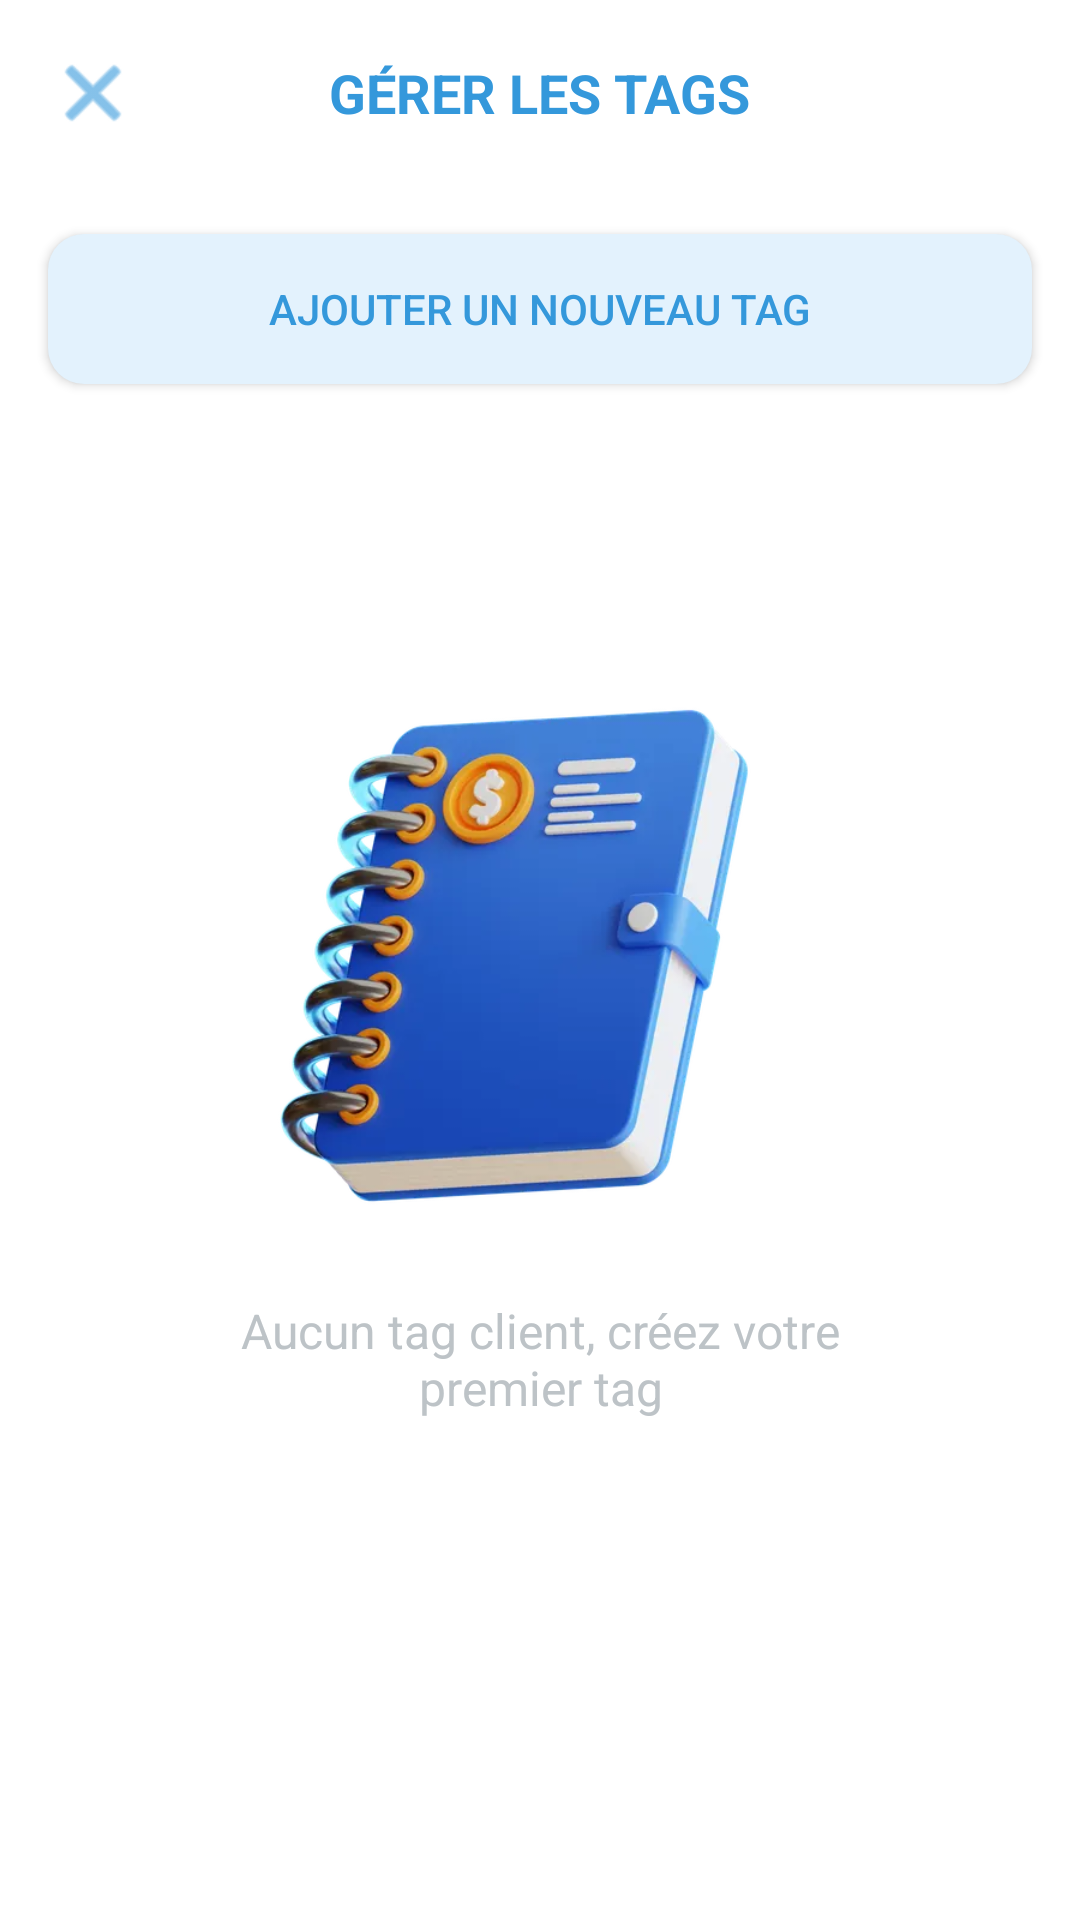

Point at icon controls on the screen. Image size 1080px x 1920px, points as (x,y).
close clear cancel: (93,93)
